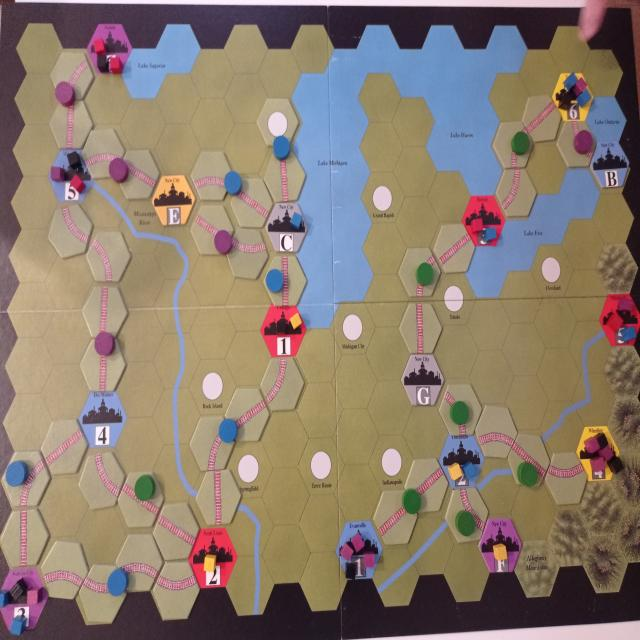13_2: (257, 98, 299, 146)
17_0: (590, 140, 630, 188)
18_0: (265, 203, 308, 252)
20_0: (152, 175, 195, 225)
21_0: (478, 518, 522, 573)
22_0: (400, 354, 444, 406)
2_0: (41, 541, 89, 600), (116, 533, 162, 591), (475, 405, 518, 458), (82, 128, 125, 178), (191, 151, 233, 200)
2_1: (3, 451, 50, 506), (190, 415, 234, 471), (398, 248, 441, 297), (50, 52, 93, 100), (492, 120, 534, 168)
2_2: (78, 451, 126, 510), (48, 204, 92, 259), (445, 487, 488, 543), (556, 121, 597, 168)
2_3: (79, 564, 126, 622), (153, 562, 200, 619), (545, 452, 588, 505), (226, 228, 268, 280)
2_4: (260, 357, 305, 410), (495, 169, 537, 217)
2_5: (438, 384, 482, 436), (86, 231, 130, 282)
3_0: (41, 418, 88, 475), (224, 388, 270, 442), (373, 490, 418, 545), (404, 458, 448, 512), (433, 224, 475, 274), (522, 94, 562, 143)
3_1: (1, 508, 49, 566), (196, 469, 242, 526), (80, 338, 126, 392), (82, 286, 128, 339), (263, 256, 307, 306), (399, 303, 442, 354), (49, 100, 93, 149), (264, 152, 306, 202)
3_2: (153, 502, 200, 560), (118, 471, 164, 528), (508, 433, 550, 487), (190, 205, 234, 255), (116, 150, 160, 199), (230, 178, 273, 227)
